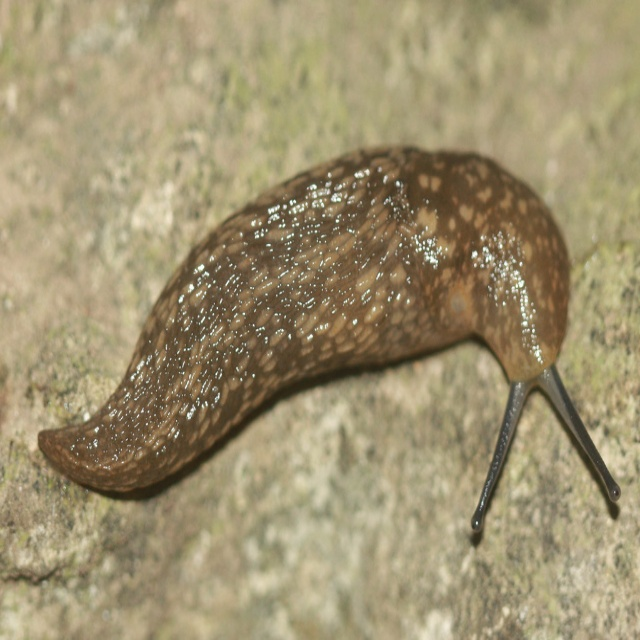Snail: (39, 138, 622, 540)
